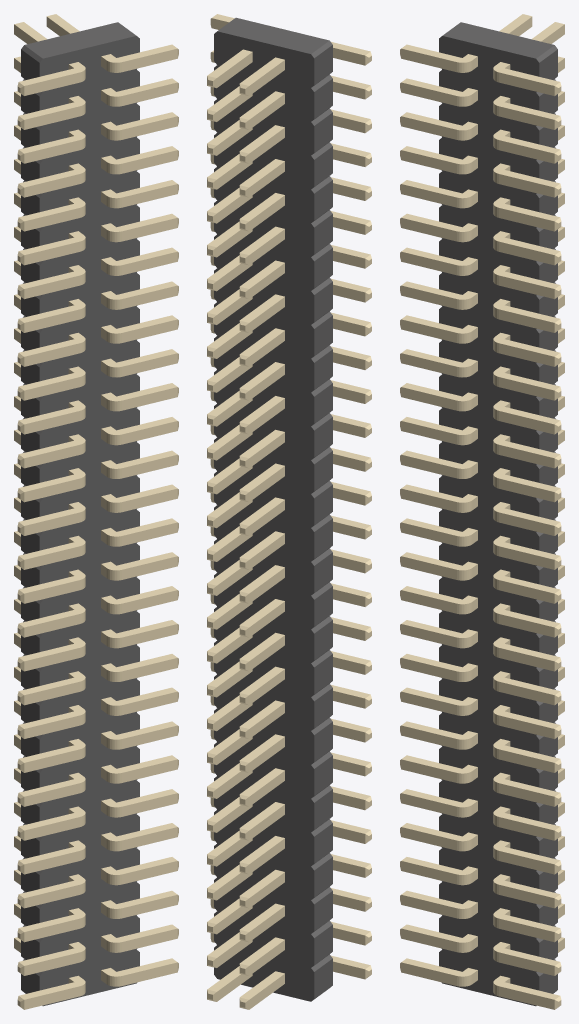
Rendered from PinHeader_2x28_P1.00mm_Vertical_SMD.glb.
3 views of the same model, side by side, from view 1: azimuth 30°, elevation 25°; view 2: azimuth 150°, elevation 25°; view 3: azimuth 330°, elevation 25° (orthographic).
Parts seen in each view (by area): view 1: Shape_IndexedFaceSet.003, Shape_IndexedFaceSet.001, Shape_IndexedFaceSet.623, Shape_IndexedFaceSet.698, Shape_IndexedFaceSet.743, Shape_IndexedFaceSet.788, Shape_IndexedFaceSet.628, Shape_IndexedFaceSet.758, Shape_IndexedFaceSet.808, Shape_IndexedFaceSet.668, Shape_IndexedFaceSet.703, Shape_IndexedFaceSet.753 (+103 smaller); view 2: Shape_IndexedFaceSet.004, Shape_IndexedFaceSet.001, Shape_IndexedFaceSet.109, Shape_IndexedFaceSet.133, Shape_IndexedFaceSet.139, Shape_IndexedFaceSet.151, Shape_IndexedFaceSet.007, Shape_IndexedFaceSet.013, Shape_IndexedFaceSet.019, Shape_IndexedFaceSet.025, Shape_IndexedFaceSet.031, Shape_IndexedFaceSet.037 (+18 smaller); view 3: Shape_IndexedFaceSet.003, Shape_IndexedFaceSet.001, Shape_IndexedFaceSet.628, Shape_IndexedFaceSet.703, Shape_IndexedFaceSet.758, Shape_IndexedFaceSet.808, Shape_IndexedFaceSet.623, Shape_IndexedFaceSet.743, Shape_IndexedFaceSet.788, Shape_IndexedFaceSet.663, Shape_IndexedFaceSet.698, Shape_IndexedFaceSet.818 (+103 smaller).
Part boxes in pixels (<box>): Shape_IndexedFaceSet.003: <box>39,36,139,1006</box>; Shape_IndexedFaceSet.001: <box>24,22,136,58</box>; Shape_IndexedFaceSet.623: <box>122,218,177,241</box>; Shape_IndexedFaceSet.698: <box>122,454,177,478</box>; Shape_IndexedFaceSet.743: <box>24,817,79,840</box>; Shape_IndexedFaceSet.788: <box>122,556,177,579</box>; Shape_IndexedFaceSet.628: <box>24,241,79,265</box>; Shape_IndexedFaceSet.758: <box>24,580,79,603</box>; Shape_IndexedFaceSet.808: <box>122,793,177,816</box>; Shape_IndexedFaceSet.668: <box>122,387,177,410</box>; Shape_IndexedFaceSet.703: <box>24,478,79,502</box>; Shape_IndexedFaceSet.753: <box>24,783,79,806</box>; Shape_IndexedFaceSet.004: <box>214,31,314,1001</box>; Shape_IndexedFaceSet.001: <box>217,17,329,53</box>; Shape_IndexedFaceSet.109: <box>314,620,332,660</box>; Shape_IndexedFaceSet.133: <box>314,755,332,795</box>; Shape_IndexedFaceSet.139: <box>314,789,332,829</box>; Shape_IndexedFaceSet.151: <box>314,857,332,897</box>; Shape_IndexedFaceSet.007: <box>314,45,332,84</box>; Shape_IndexedFaceSet.013: <box>314,78,332,118</box>; Shape_IndexedFaceSet.019: <box>314,112,332,152</box>; Shape_IndexedFaceSet.025: <box>314,146,332,186</box>; Shape_IndexedFaceSet.031: <box>314,180,332,220</box>; Shape_IndexedFaceSet.037: <box>314,214,332,254</box>; Shape_IndexedFaceSet.003: <box>439,36,539,1006</box>; Shape_IndexedFaceSet.001: <box>442,22,554,58</box>; Shape_IndexedFaceSet.628: <box>401,218,456,241</box>; Shape_IndexedFaceSet.703: <box>401,454,456,478</box>; Shape_IndexedFaceSet.758: <box>401,556,456,579</box>; Shape_IndexedFaceSet.808: <box>499,817,554,840</box>; Shape_IndexedFaceSet.623: <box>499,241,554,265</box>; Shape_IndexedFaceSet.743: <box>401,793,456,816</box>; Shape_IndexedFaceSet.788: <box>499,580,554,603</box>; Shape_IndexedFaceSet.663: <box>401,387,456,410</box>; Shape_IndexedFaceSet.698: <box>499,478,554,502</box>; Shape_IndexedFaceSet.818: <box>499,783,554,806</box>.
Size of the model in its own units: 1.93 by 11.02 by 1.42.
